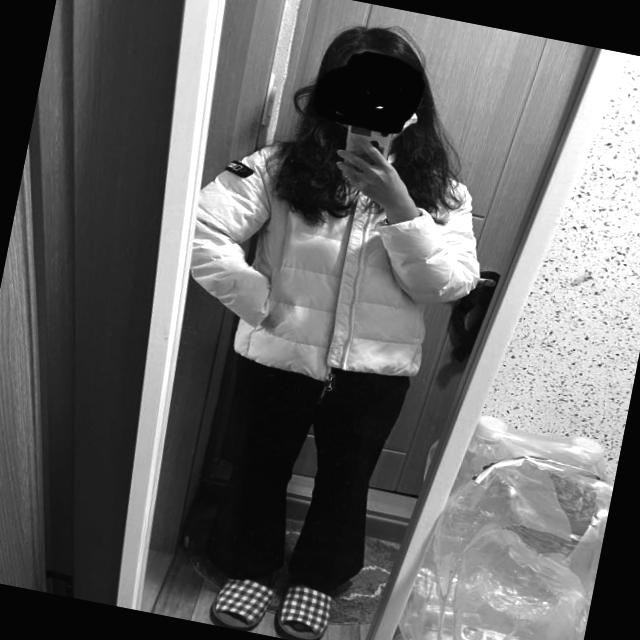padding: (167, 123, 502, 410)
trainingpants: (206, 345, 410, 600)
